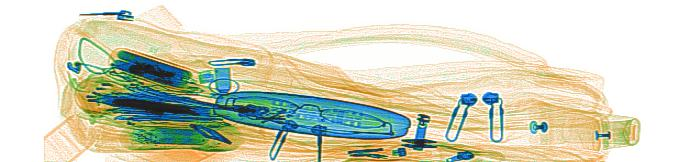battery: (149, 125, 210, 145)
